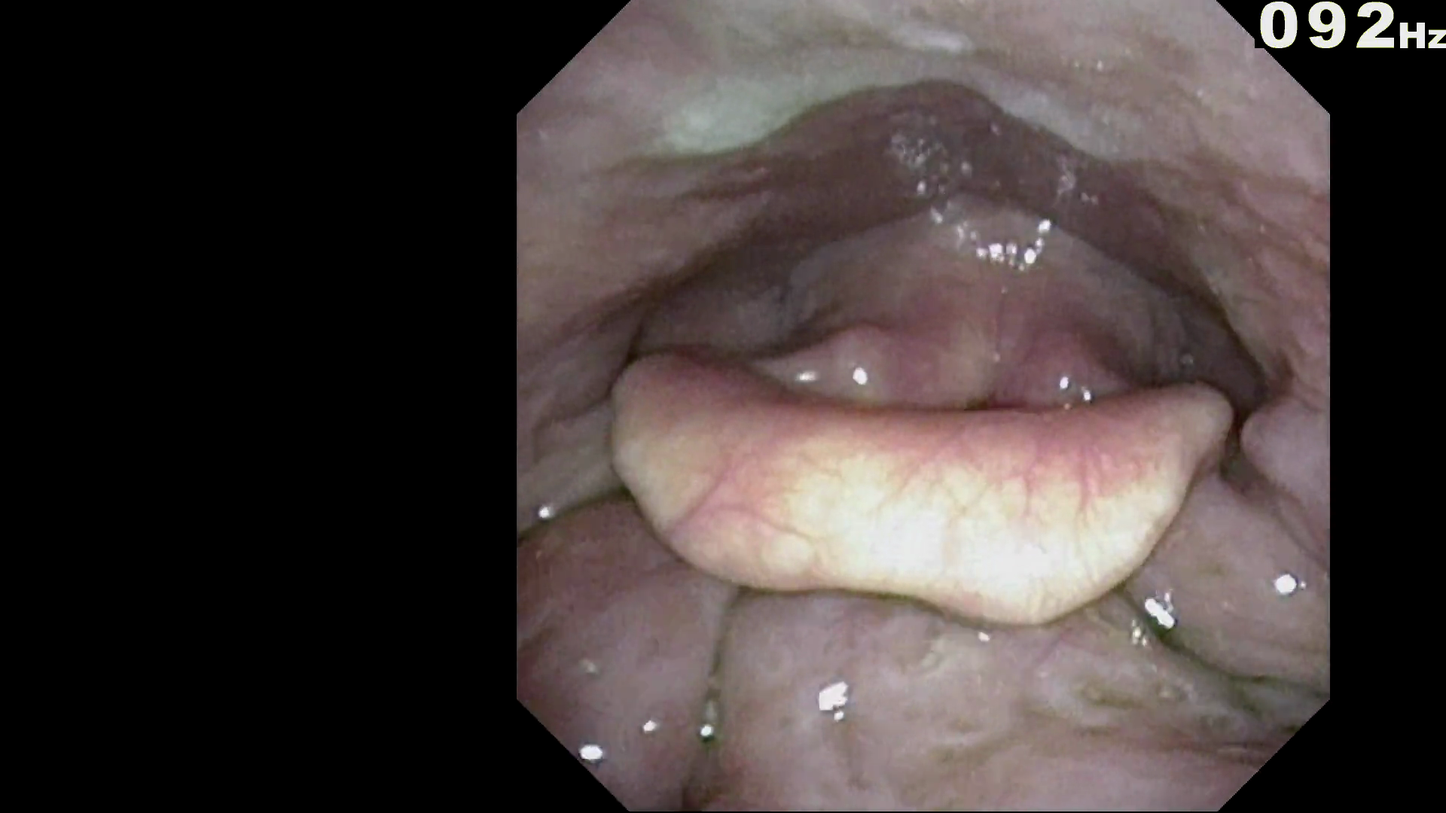epiglottis: (604, 373, 1217, 597)
trachea: (924, 368, 1021, 440)
